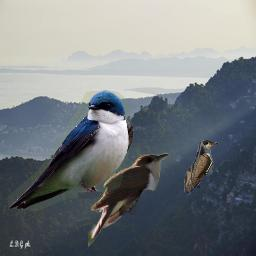Cuckoo: (88, 152, 170, 250), (184, 140, 227, 195)
Swallow: (8, 90, 134, 211)
